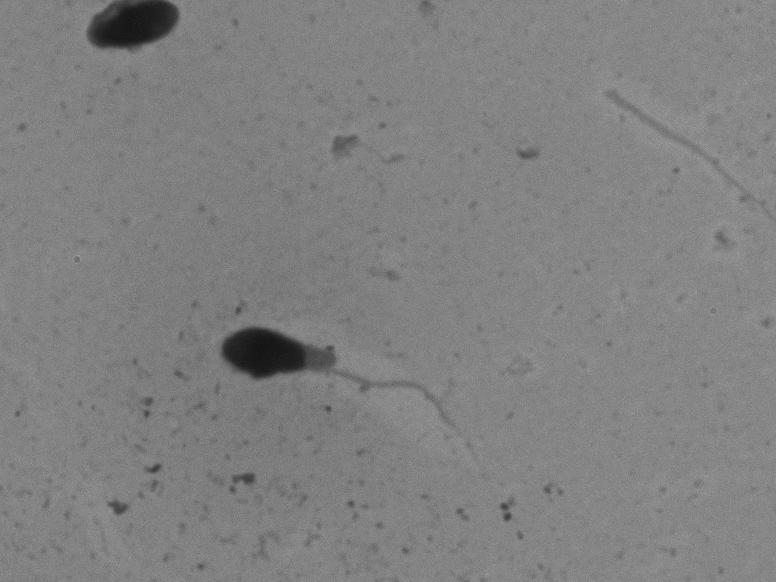Abnormal: (188, 295, 498, 491)
